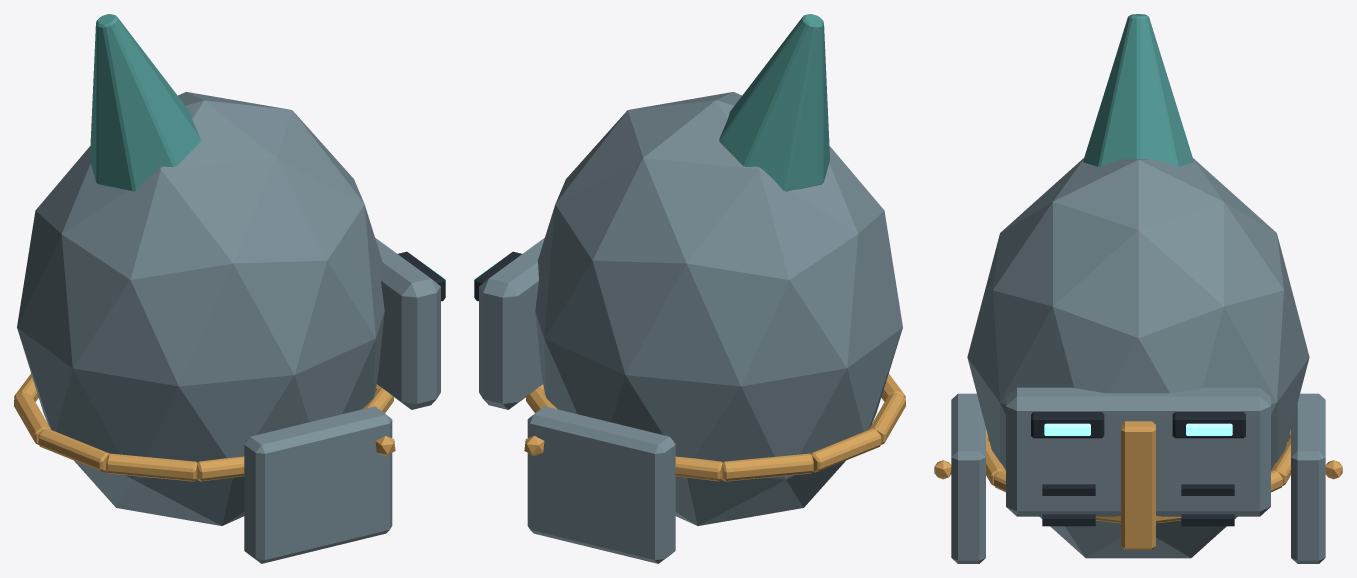
The model's file is SM_Life_Helm_Iron.fbx.
3 views of the same model, side by side, from view 1: azimuth 30°, elevation 25°; view 2: azimuth 150°, elevation 25°; view 3: azimuth 270°, elevation 25° (orthographic). The views are drawn at different scales.
Visible parts, largest first — view 1: SM_Life_Helm_Iron; view 2: SM_Life_Helm_Iron; view 3: SM_Life_Helm_Iron.
Part boxes in pixels (left/top/right/bottom): SM_Life_Helm_Iron: left=14, top=14, right=445, bottom=563; SM_Life_Helm_Iron: left=474, top=14, right=905, bottom=563; SM_Life_Helm_Iron: left=934, top=14, right=1342, bottom=563.
Bounding box in the file's own units: 29.47 × 40.99 × 30.56.
